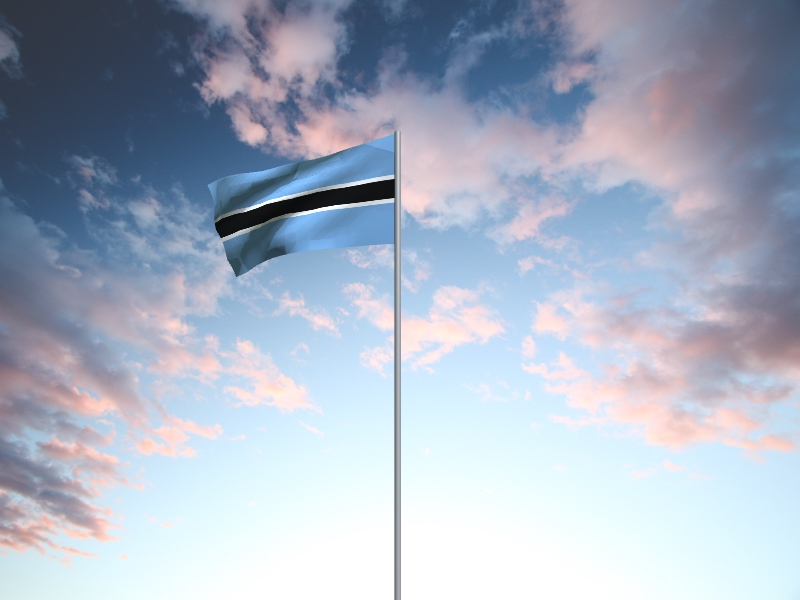bw: (206, 135, 394, 279)
